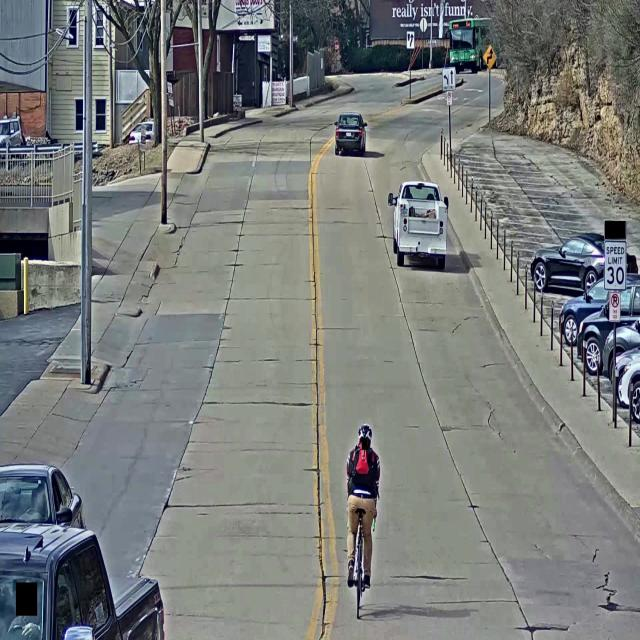bicycle: (347, 510, 376, 619)
car: (1, 525, 164, 640), (530, 234, 638, 295), (558, 273, 640, 346), (577, 281, 640, 376), (0, 463, 85, 529), (388, 180, 449, 270), (449, 19, 503, 74), (602, 315, 640, 385), (611, 346, 640, 407), (334, 113, 368, 156), (621, 356, 640, 424), (0, 118, 26, 159), (129, 120, 155, 145)
person: (347, 424, 380, 588)
